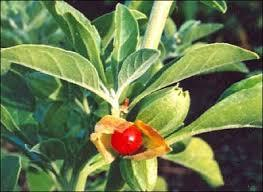healthy_leaf: (13, 5, 263, 141)
